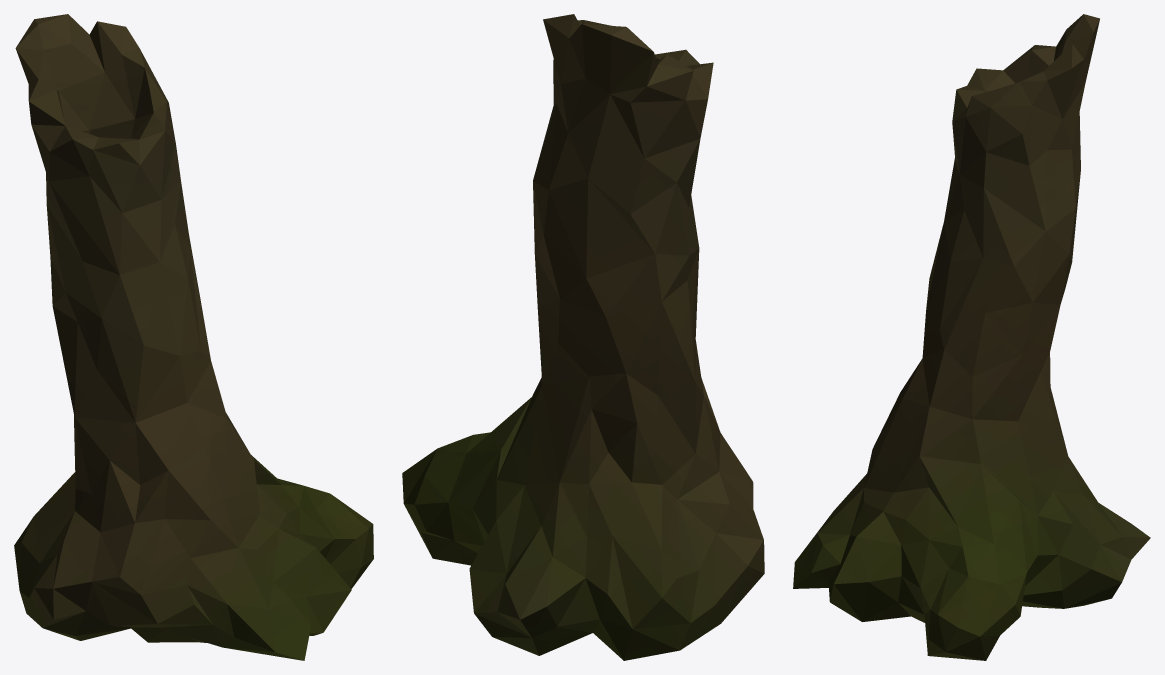
Rendered from Wood_01.fbx.
3 views of the same model, side by side, from view 1: azimuth 30°, elevation 25°; view 2: azimuth 150°, elevation 25°; view 3: azimuth 270°, elevation 25° (orthographic). The views are drawn at different scales.
Parts seen in each view (by area): view 1: Wood_01; view 2: Wood_01; view 3: Wood_01.
Part boxes in pixels (<box>): Wood_01: <box>14,14,373,660</box>; Wood_01: <box>402,14,764,660</box>; Wood_01: <box>793,14,1150,660</box>.
Size of the model in its own units: 171 by 298 by 172.
